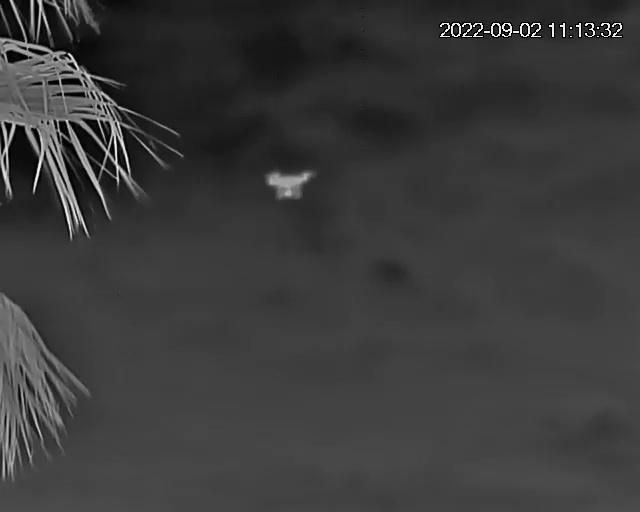DJI-Phantom: (264, 168, 317, 202)
